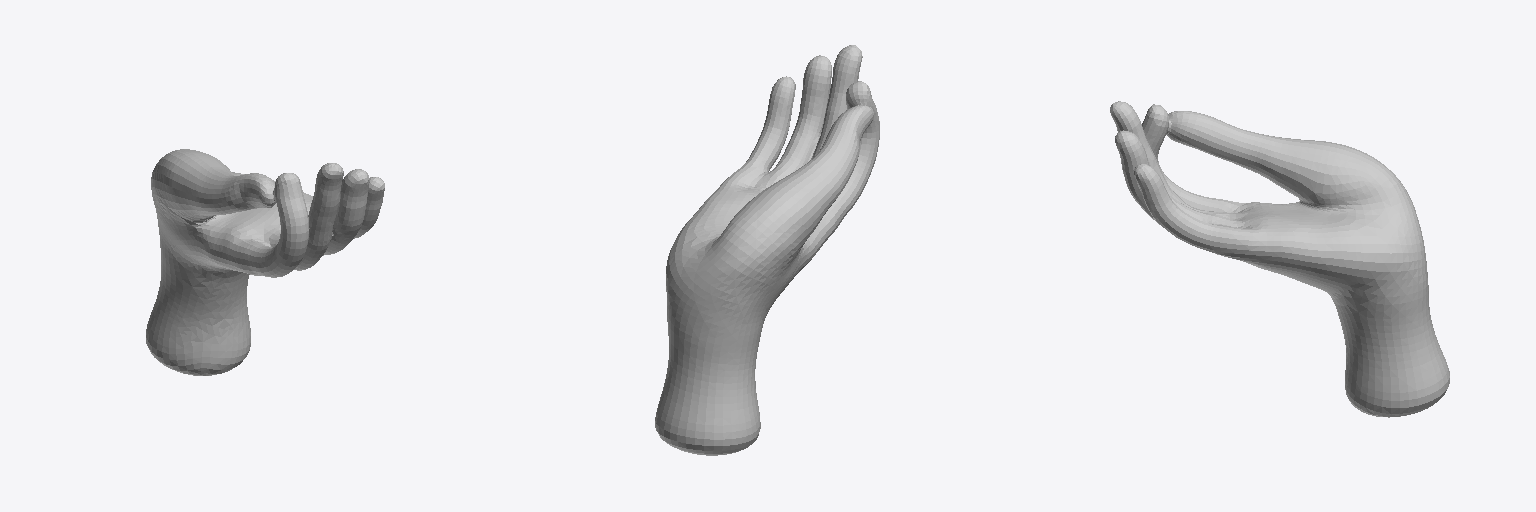
File: hand2.obj
The picture shows the model from 3 angles: view 1: azimuth 30°, elevation 25°; view 2: azimuth 150°, elevation 25°; view 3: azimuth 270°, elevation 25°; orthographic projection.
Parts seen in each view (by area): view 1: Hand; view 2: Hand; view 3: Hand.
Boxes of the visible parts, x1,y1,x2,y2 form: Hand: [146, 149, 384, 375]; Hand: [655, 45, 879, 455]; Hand: [1110, 101, 1449, 417].
Bounding box in the file's own units: 0.3006 × 0.6773 × 0.687.